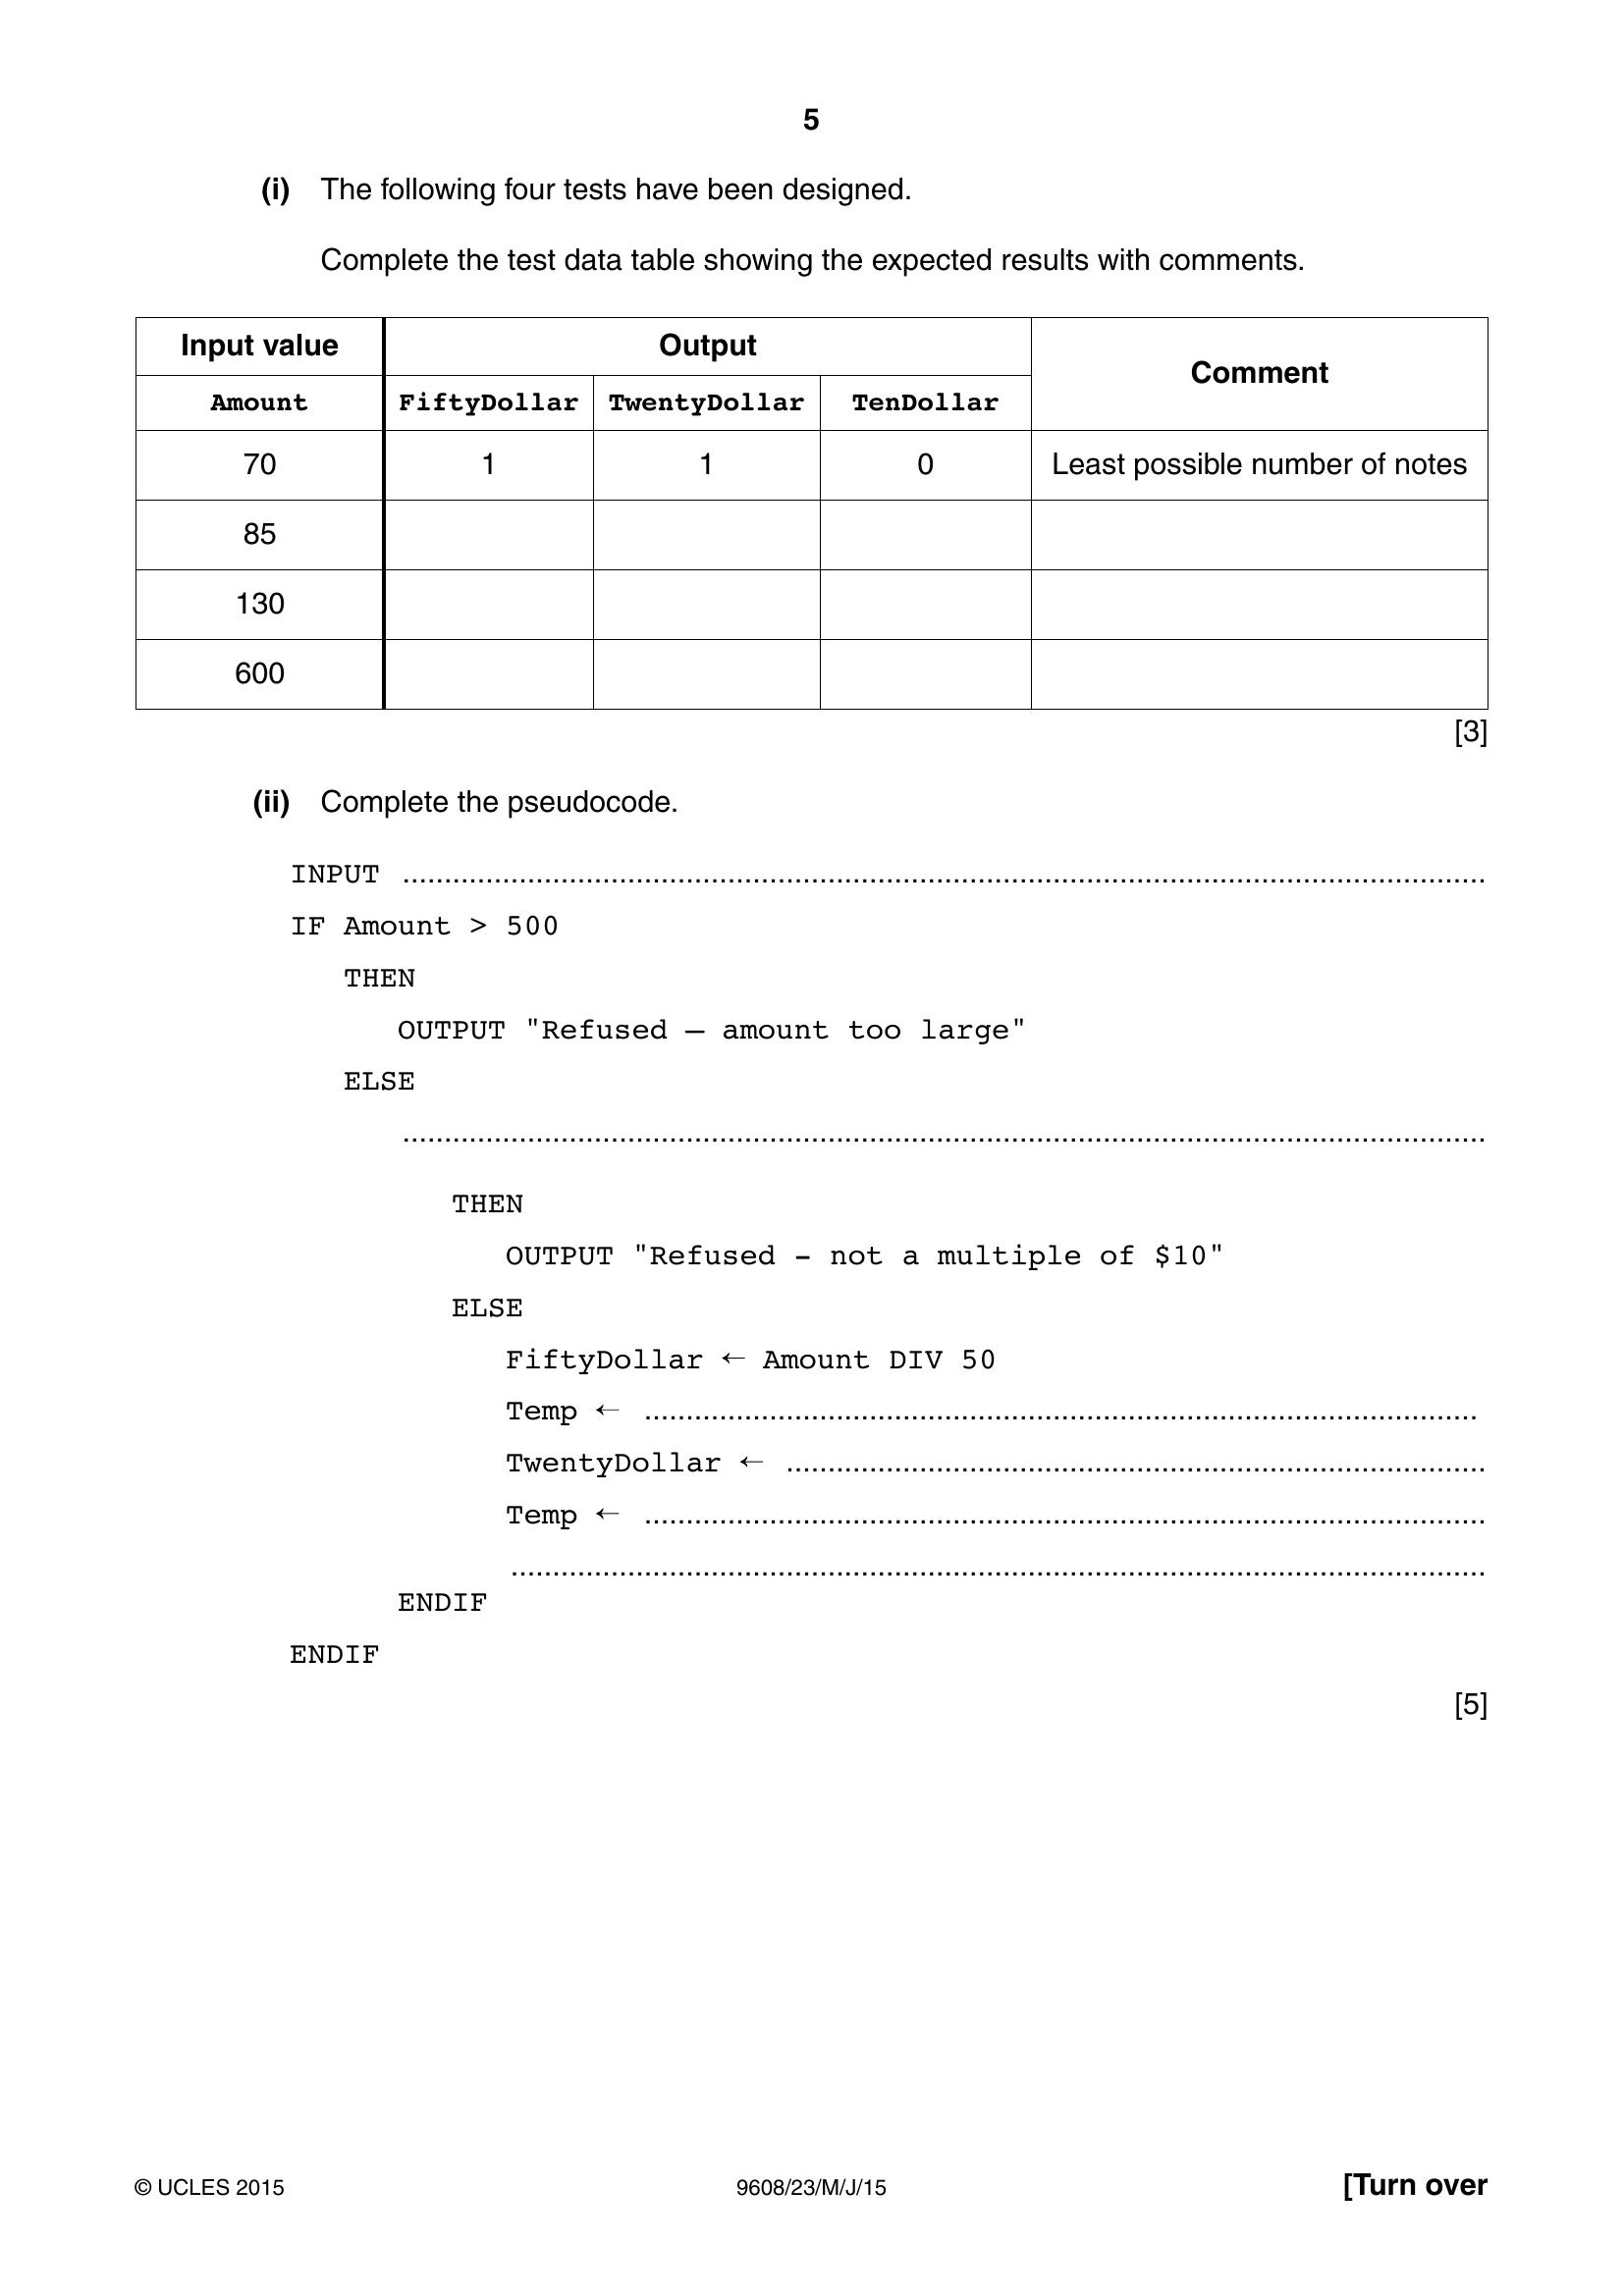continued question: (2, 155, 1622, 1799)
